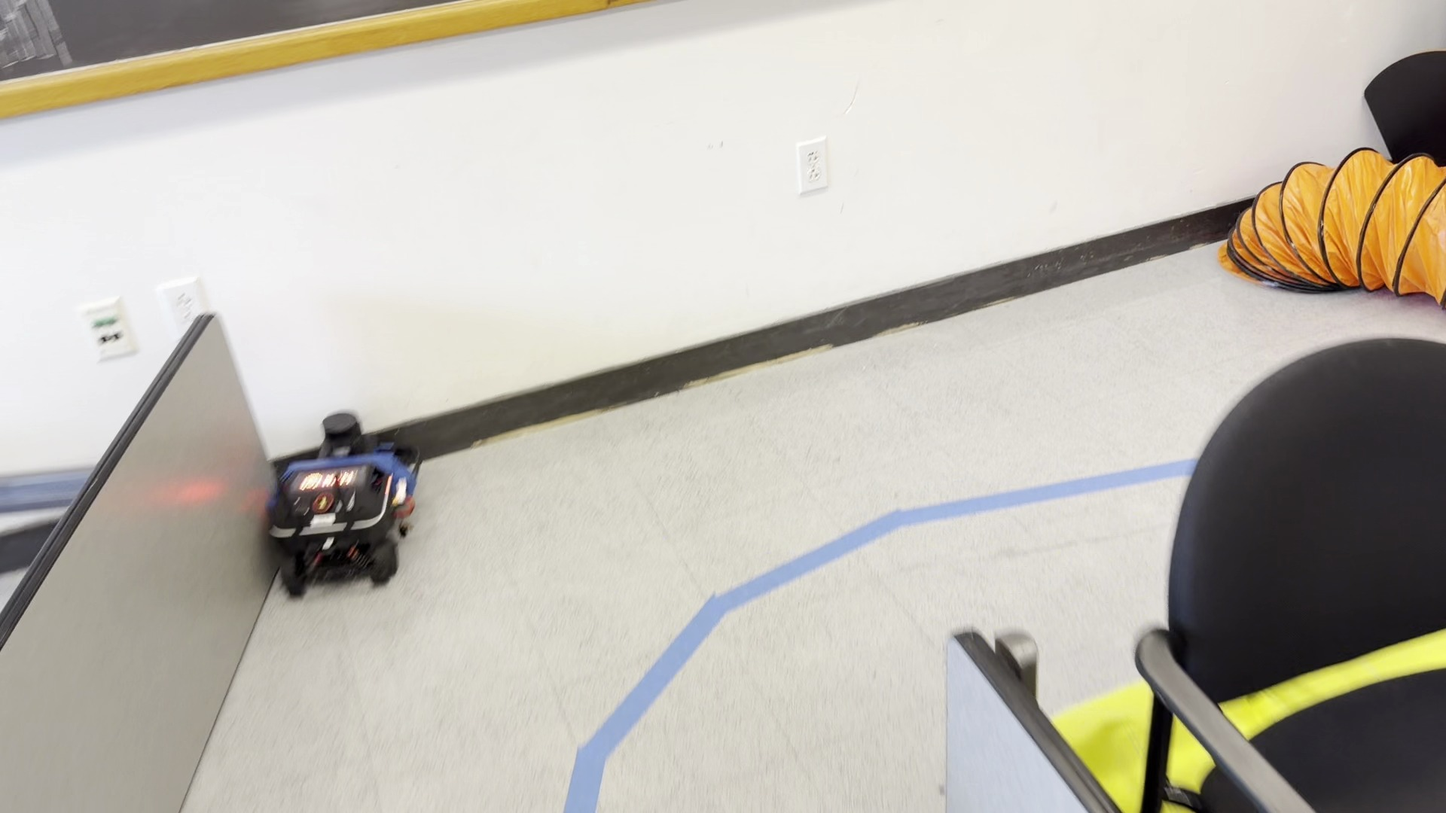racecar: (266, 411, 418, 597)
